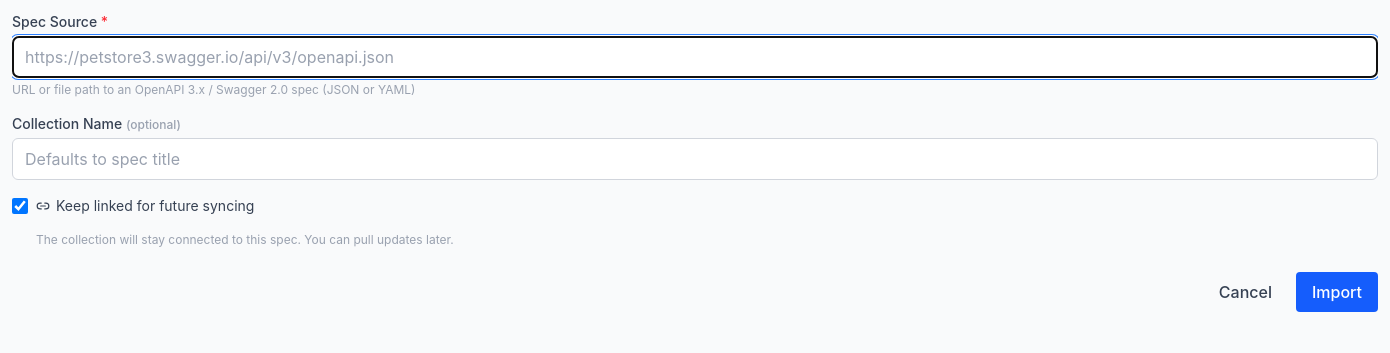
Test: ImportOpenApiForm › shows validation error when source is empty
Click the button "Import" at {"x": 1337, "y": 292}, box [1296,272,1378,312]
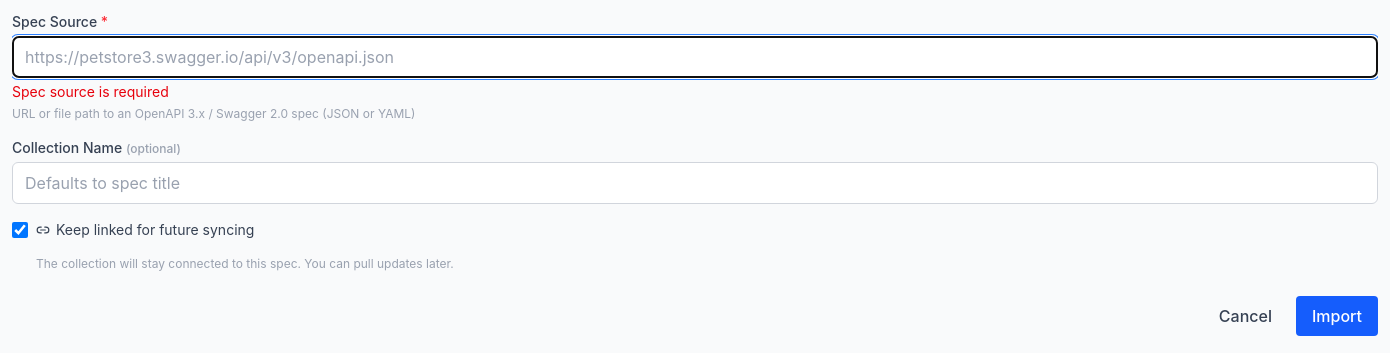
Result: the text "Spec source is required" is shown at [12,83,169,100]
